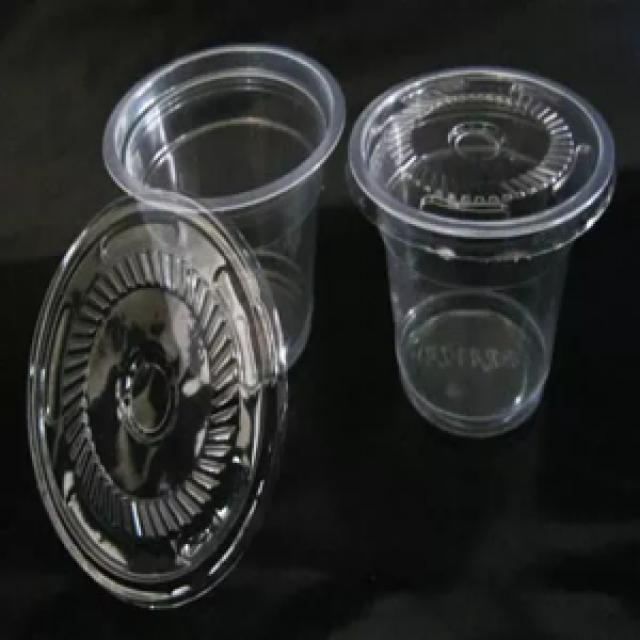plastic cup: (341, 57, 625, 446), (94, 43, 348, 390)
